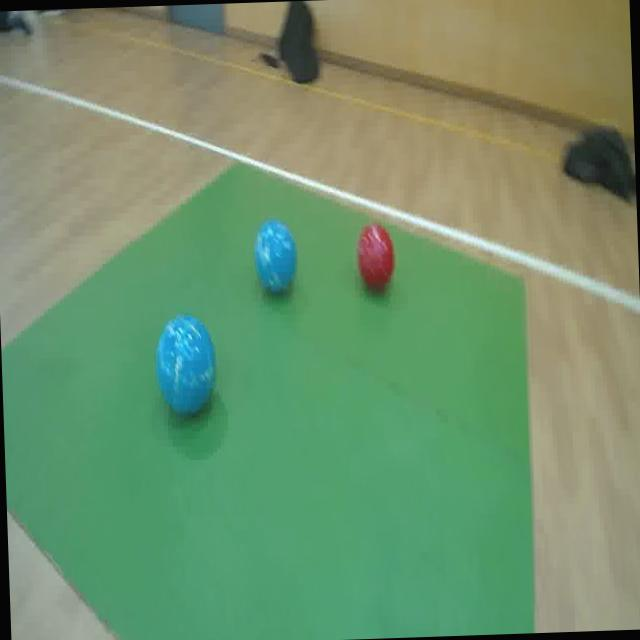blue_ball: (152, 308, 218, 424), (252, 220, 300, 297)
red_ball: (356, 222, 396, 290)
